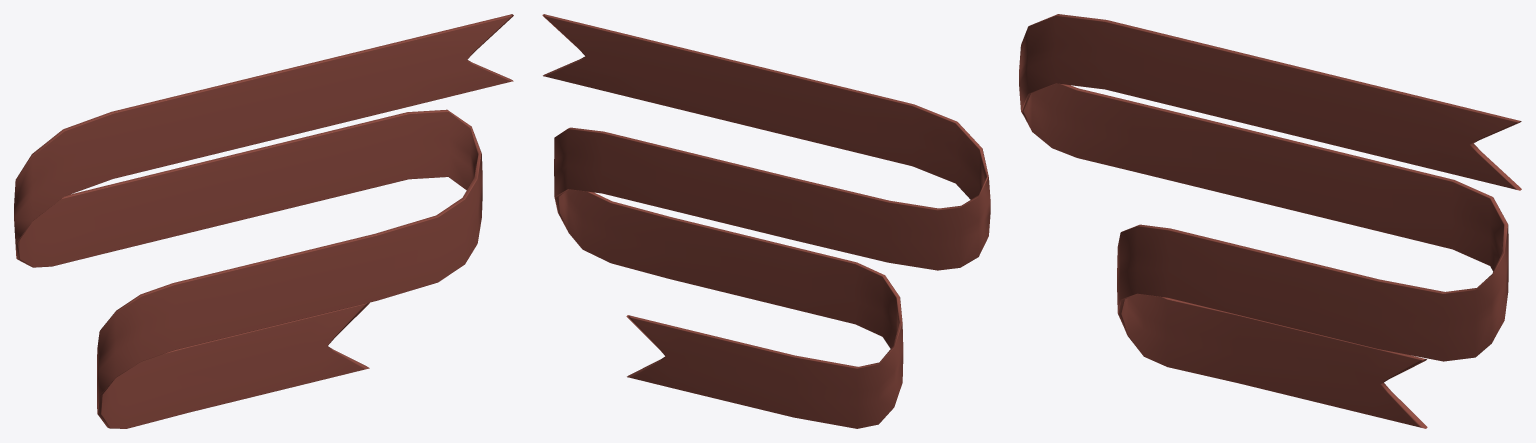
Rendered from PlacementBackdropRibbon.fbx.
3 renders of one model, left to right at view 1: azimuth 30°, elevation 25°; view 2: azimuth 150°, elevation 25°; view 3: azimuth 330°, elevation 25°, orthographic. The views are drawn at different scales.
Parts seen in each view (by area): view 1: Ribbon1; view 2: Ribbon1; view 3: Ribbon1.
Part boxes in pixels (<box>): Ribbon1: <box>14,14,513,428</box>; Ribbon1: <box>542,14,990,428</box>; Ribbon1: <box>1019,14,1521,428</box>.
Bounding box in the file's own units: 173 × 115 × 17.56.
